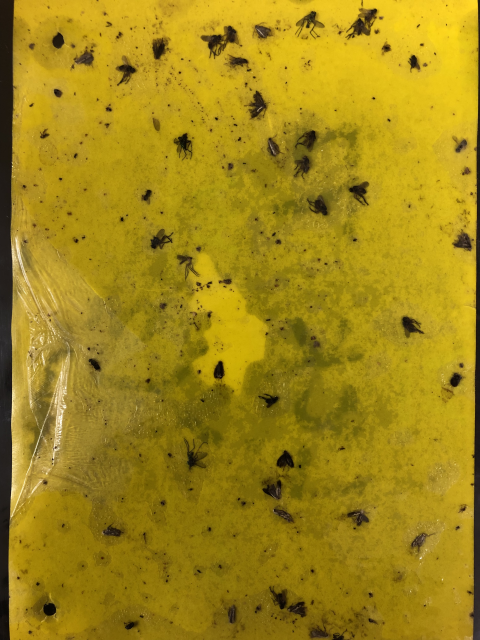DBM: (245, 88, 270, 122), (408, 530, 435, 553), (270, 504, 296, 526), (344, 507, 370, 529), (274, 449, 296, 474), (264, 132, 285, 158), (449, 228, 472, 251), (260, 478, 282, 501), (251, 21, 274, 42), (285, 600, 308, 620), (211, 359, 226, 383), (102, 523, 124, 539), (226, 603, 238, 626)
